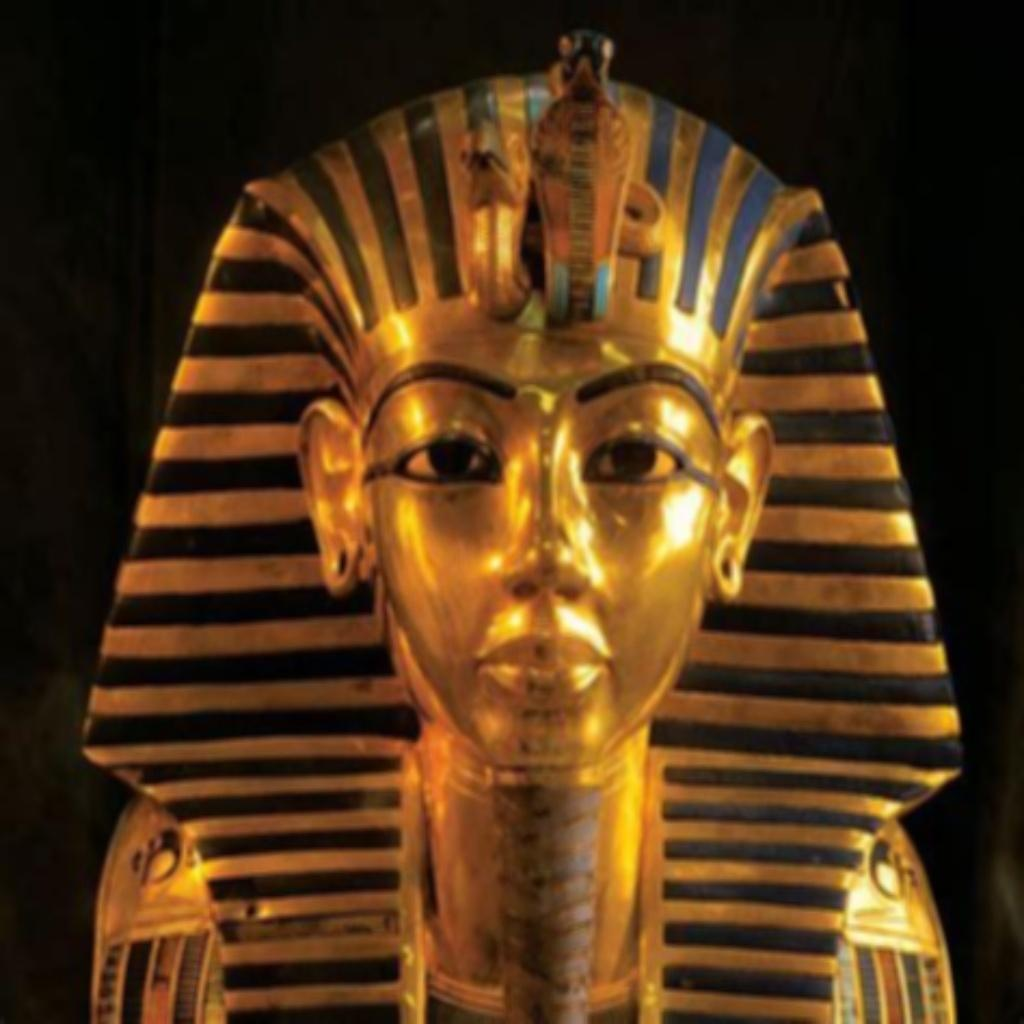Mask of Tutankhamun: (78, 30, 966, 1022)
